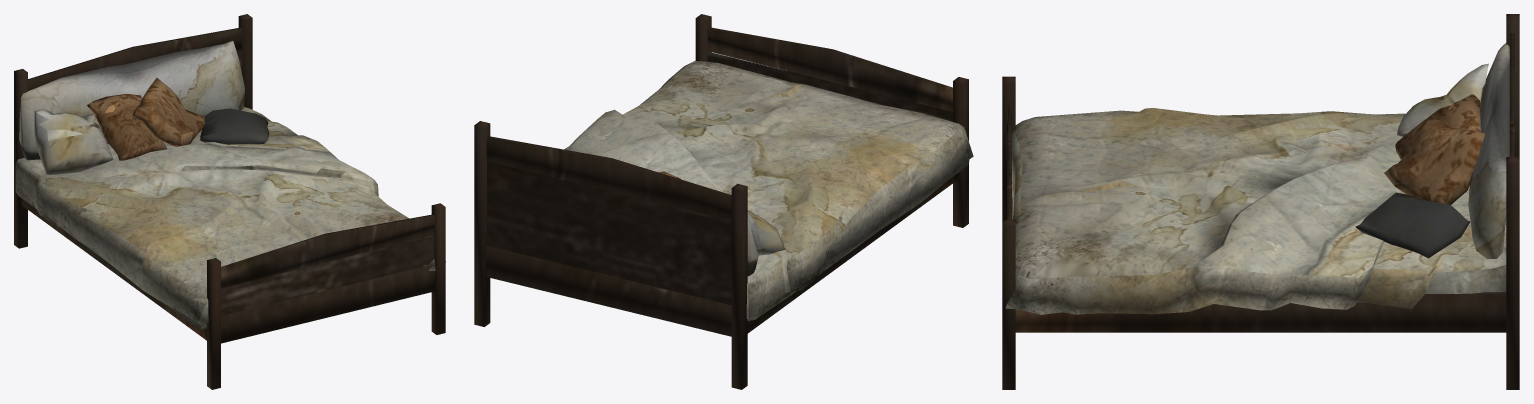
The model's file is BedBrkn.fbx.
3 views of the same model, side by side, from view 1: azimuth 30°, elevation 25°; view 2: azimuth 150°, elevation 25°; view 3: azimuth 270°, elevation 25° (orthographic). The views are drawn at different scales.
Parts seen in each view (by area): view 1: bed; view 2: bed; view 3: bed.
Part boxes in pixels (x1,y1,x2,y2): bed: (14,14,445,389); bed: (474,14,973,389); bed: (1002,14,1519,389).
Bounding box in the file's own units: 189 × 123 × 250.
1 material, 1 textured.
